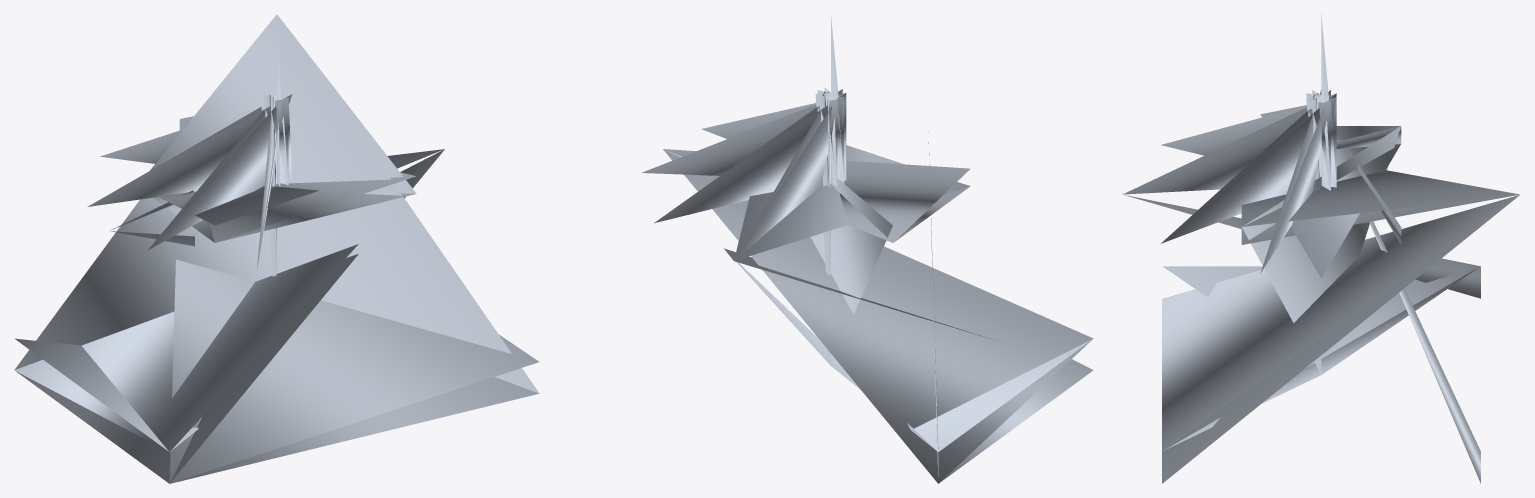
The model's file is electrical_wiring.glb.
3 renders of one model, left to right at view 1: azimuth 30°, elevation 25°; view 2: azimuth 150°, elevation 25°; view 3: azimuth 270°, elevation 25°, orthographic. The views are drawn at different scales.
Parts seen in each view (by area): view 1: tool; view 2: tool; view 3: tool.
Part boxes in pixels (x1,y1,x2,y2): tool: (14,14,539,483); tool: (641,16,1093,483); tool: (1122,14,1520,483).
Size of the model in its own units: 2.2 by 2.09 by 2.
